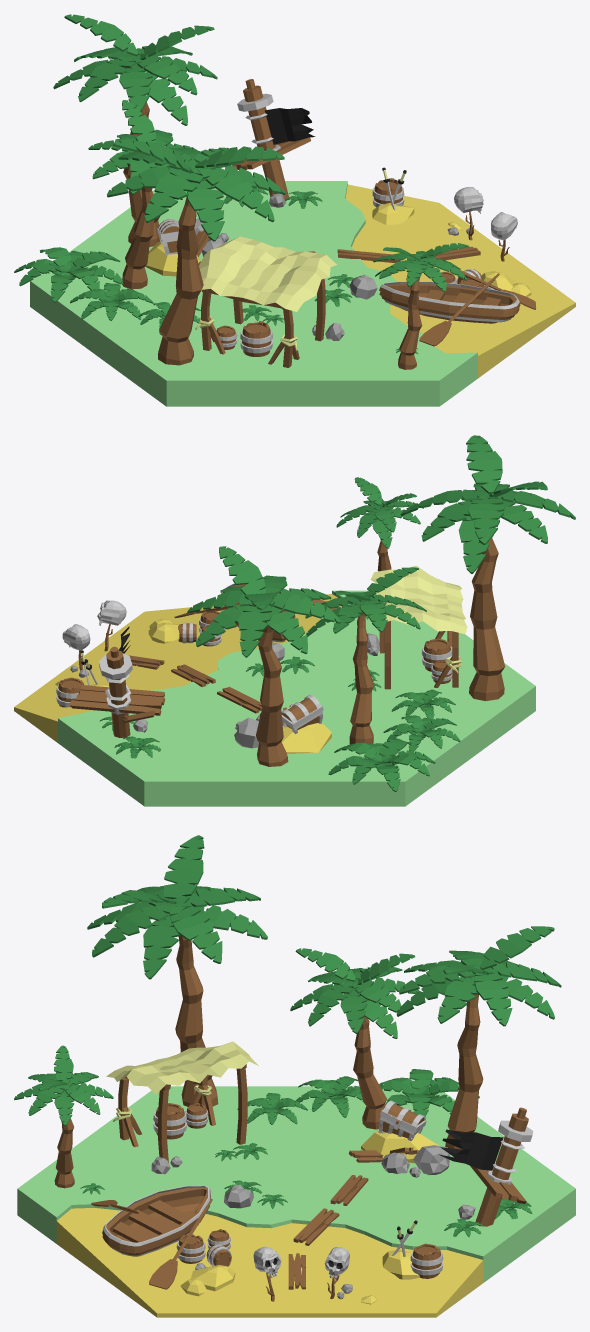
The model's file is pirate_island.glb.
The picture shows the model from 3 angles, top to bottom: view 1: azimuth 30°, elevation 25°; view 2: azimuth 150°, elevation 25°; view 3: azimuth 270°, elevation 25°; orthographic projection. The views are drawn at different scales.
Parts seen in each view (by area): view 1: Object_4, Object_5, Object_3, Object_6, Object_7; view 2: Object_4, Object_5, Object_3, Object_6, Object_7; view 3: Object_4, Object_5, Object_3, Object_6, Object_7.
Boxes of the visible parts, <box> form: Object_4: <box>30,102,575,406</box>; Object_5: <box>53,14,469,292</box>; Object_3: <box>145,79,536,356</box>; Object_6: <box>14,147,417,353</box>; Object_7: <box>224,188,352,325</box>; Object_4: <box>14,538,535,806</box>; Object_5: <box>187,435,575,657</box>; Object_3: <box>55,600,452,753</box>; Object_6: <box>328,483,509,791</box>; Object_7: <box>100,656,381,758</box>; Object_4: <box>17,935,575,1317</box>; Object_5: <box>14,835,561,1125</box>; Object_3: <box>91,1100,533,1304</box>; Object_6: <box>80,904,479,1194</box>; Object_7: <box>215,1143,532,1237</box>.
Bounding box in the file's own units: 28.26 × 15.55 × 30.18.
Materials: 1 (1 with a texture image).
